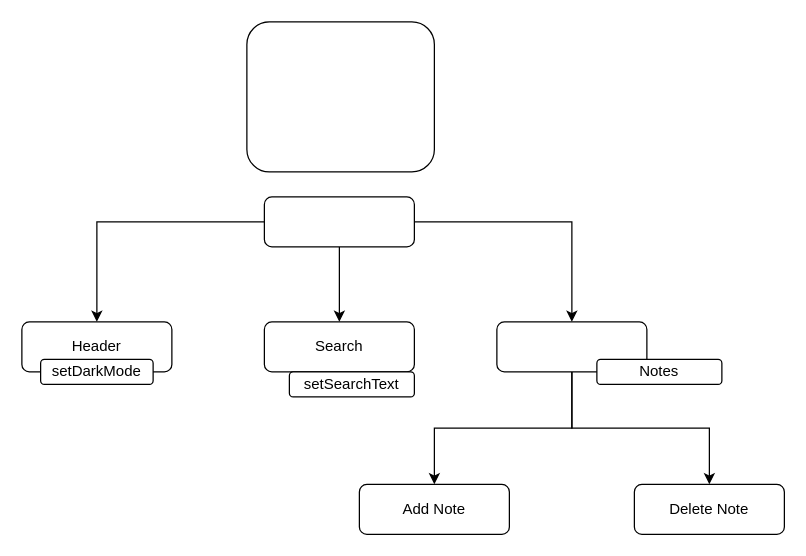
The diagram is 806 pixels wide and 556 high, and some of its shapes have lost their labels. The centre of each missing label's shape, as x and y in pixels:
"APP" belongs at (x=338, y=221).
"Notes List" belongs at (x=571, y=346).
"setNotes setSearchText setDarkMode fetchData AddNewNote DeleteNote" belongs at (x=340, y=96).
